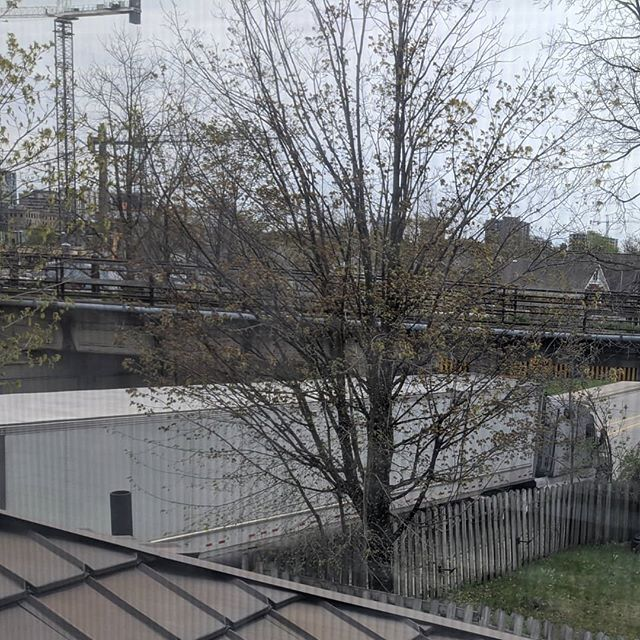crane: (1, 1, 145, 177)
tree: (113, 1, 526, 545)
